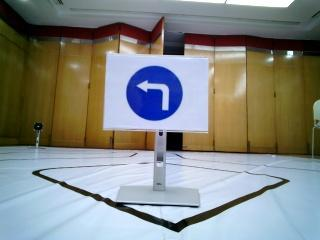left: (109, 59, 201, 131)
